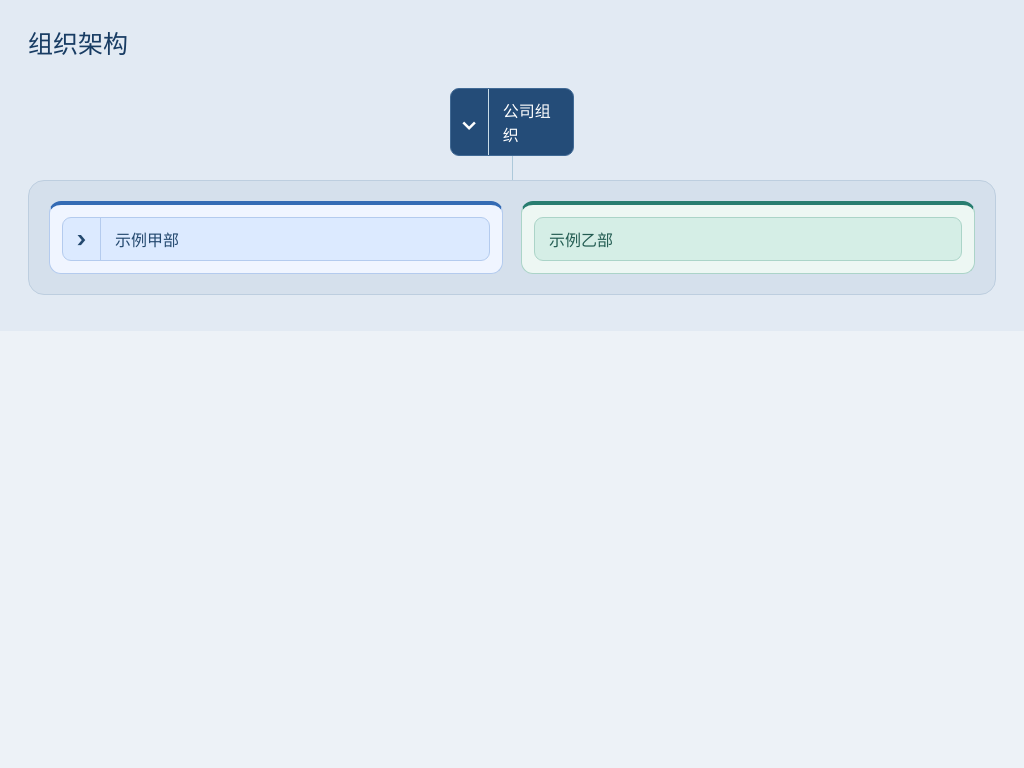
Test: moves keyboard focus into detail and Escape returns it to the department
This screenshot has width=1024, height=768.
Click the button "示例甲部" at (147, 240), box [101,218,489,260]
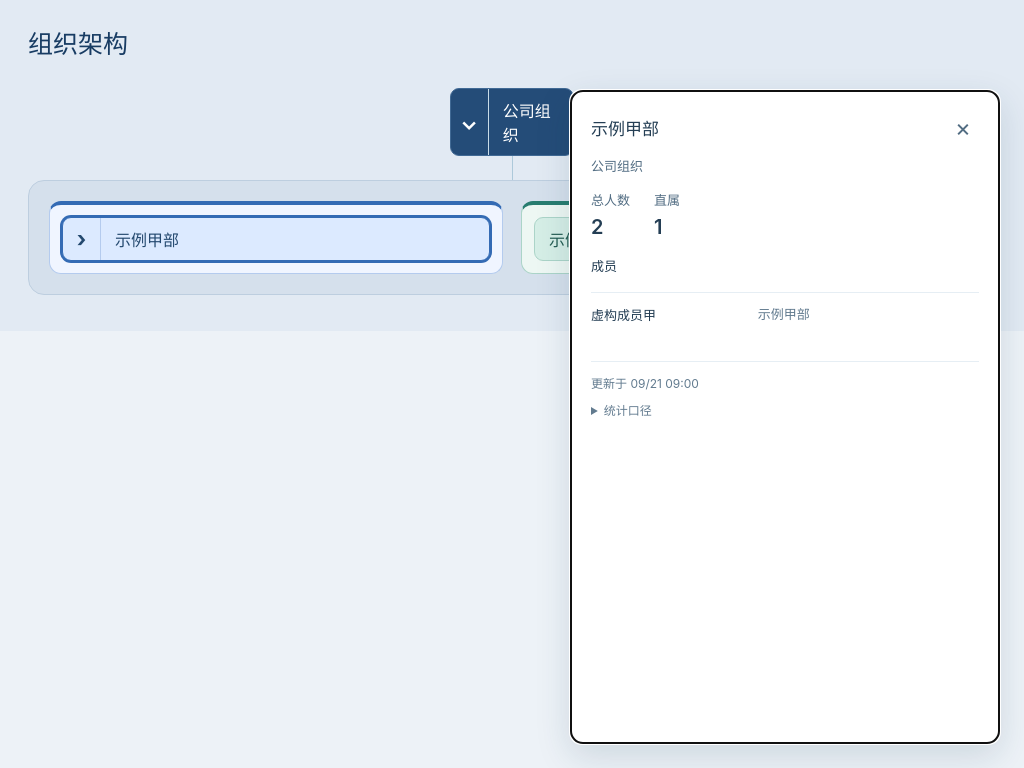
Press Escape in the element named "部门详情", box [570,90,1000,744]
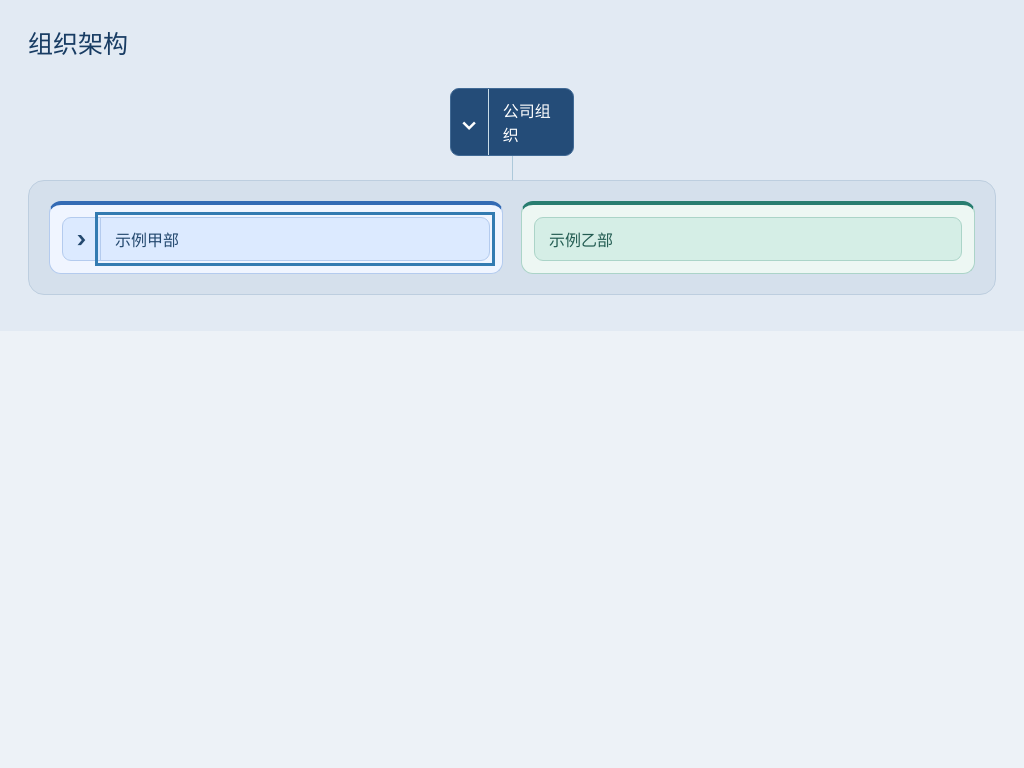
Expected: the button "示例甲部" is shown, [101,218,489,260]
Result: the element named "部门详情" is gone
